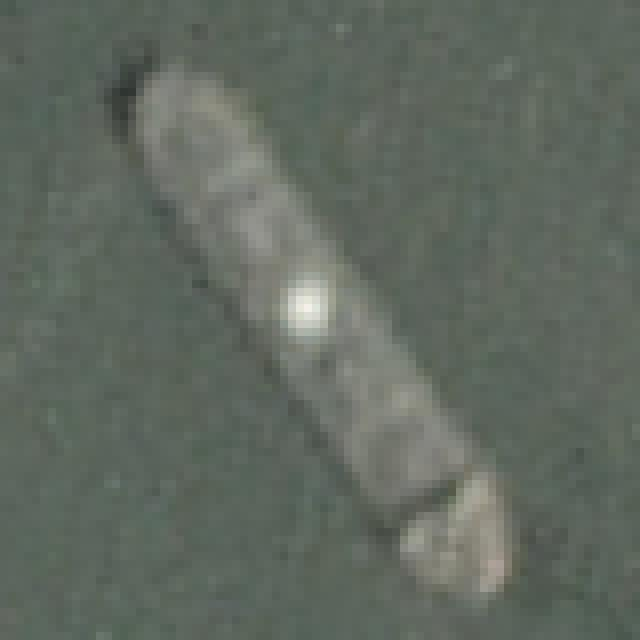ship: (98, 42, 534, 599)
